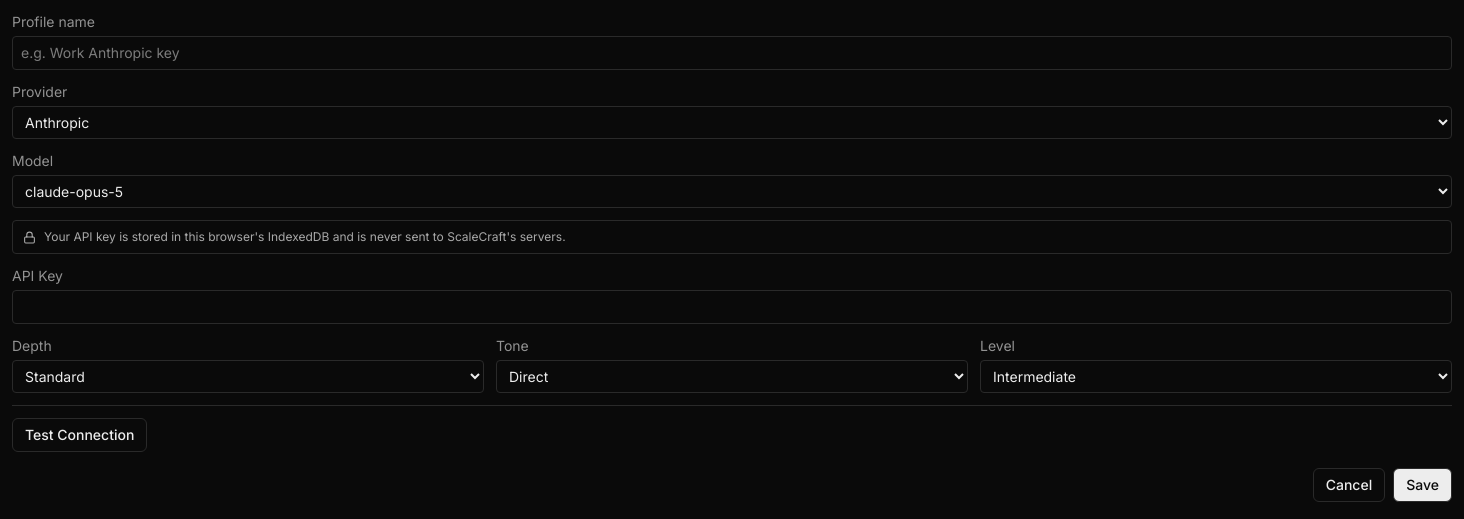
Test: AiSettingsForm › switching provider resets the model to the new provider's default when the old model isn't in its suggested list
The width and height of the screenshot is (1464, 519).
Expected: the dropdown labelled "Model" shows "claude-opus-5", [12, 175, 1452, 208]
Select "Google" in the dropdown labelled "Provider". click: (732, 122)
box: [12, 106, 1452, 139]
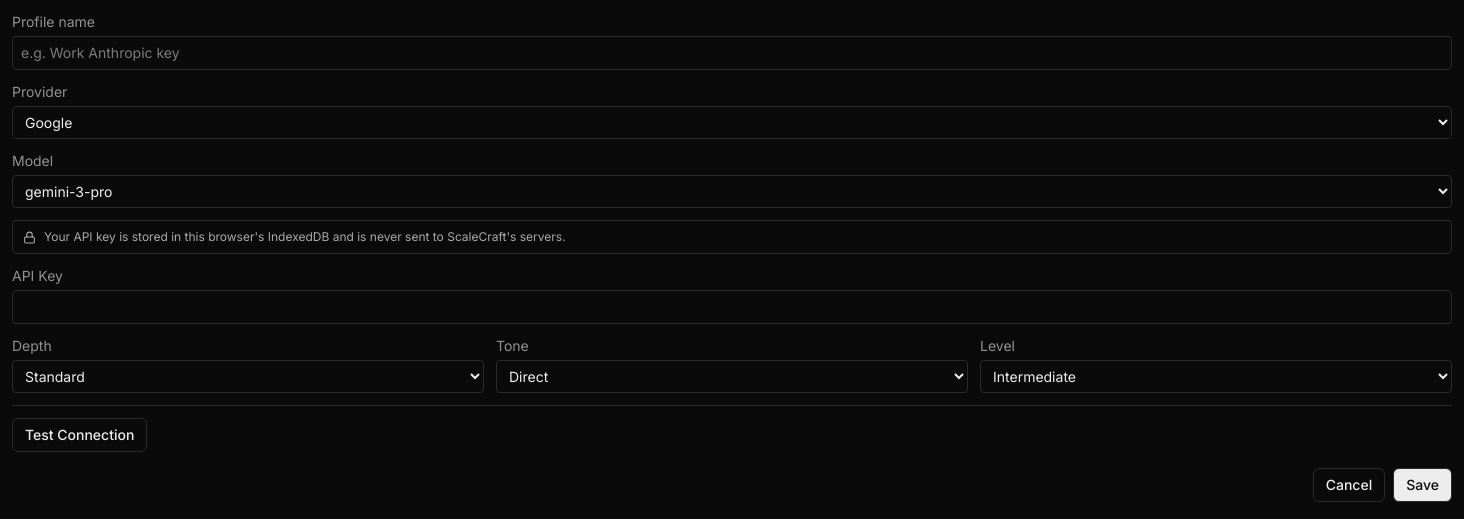
Expected: the dropdown labelled "Model" shows "gemini-3-pro", [12, 175, 1452, 208]
